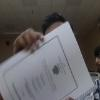notebook: (0, 20, 97, 99)
